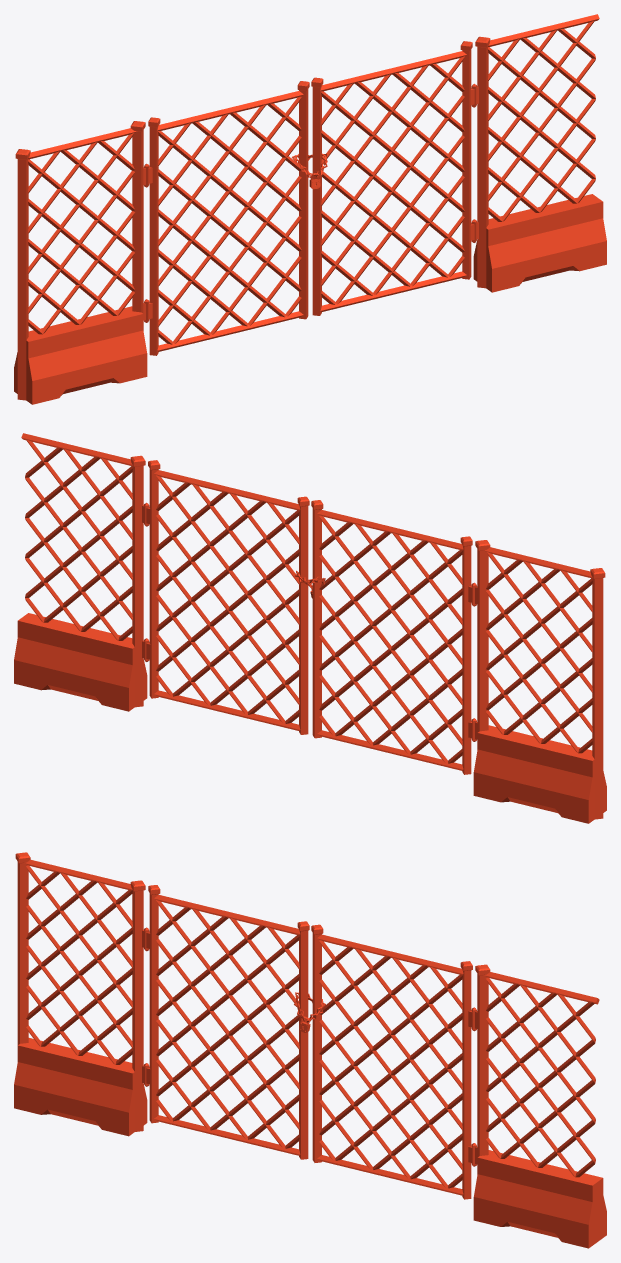
File: SM_Fence_Construction_Gate_Low_City.fbx
The picture shows the model from 3 angles, top to bottom: view 1: azimuth 30°, elevation 25°; view 2: azimuth 150°, elevation 25°; view 3: azimuth 330°, elevation 25°; orthographic projection.
Parts seen in each view (by area): view 1: SM_Fence_Construction_Gate_Low_City_Base, SM_Fence_Construction_Gate_Low_City_Door_R, SM_Fence_Construction_Gate_Low_City_Door_L; view 2: SM_Fence_Construction_Gate_Low_City_Base, SM_Fence_Construction_Gate_Low_City_Door_L, SM_Fence_Construction_Gate_Low_City_Door_R; view 3: SM_Fence_Construction_Gate_Low_City_Base, SM_Fence_Construction_Gate_Low_City_Door_L, SM_Fence_Construction_Gate_Low_City_Door_R.
Part boxes in pixels (bbox=[...]): SM_Fence_Construction_Gate_Low_City_Base: bbox=[14, 14, 606, 404]; SM_Fence_Construction_Gate_Low_City_Door_R: bbox=[144, 81, 309, 355]; SM_Fence_Construction_Gate_Low_City_Door_L: bbox=[311, 41, 476, 315]; SM_Fence_Construction_Gate_Low_City_Base: bbox=[14, 433, 606, 823]; SM_Fence_Construction_Gate_Low_City_Door_L: bbox=[144, 460, 309, 734]; SM_Fence_Construction_Gate_Low_City_Door_R: bbox=[311, 500, 476, 774]; SM_Fence_Construction_Gate_Low_City_Base: bbox=[14, 852, 606, 1248]; SM_Fence_Construction_Gate_Low_City_Door_L: bbox=[311, 924, 476, 1199]; SM_Fence_Construction_Gate_Low_City_Door_R: bbox=[144, 885, 309, 1159].
Bounding box in the file's own units: 5.06 × 2.05 × 0.2748.
